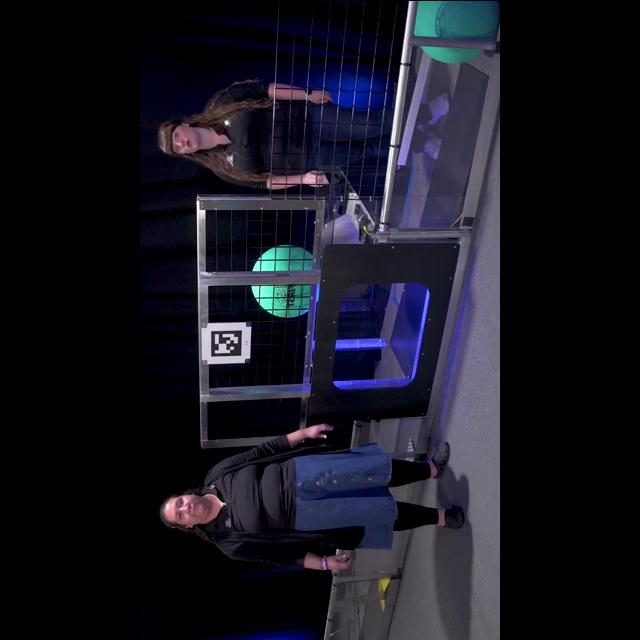ALGAE: (412, 1, 498, 64), (250, 243, 314, 317)
